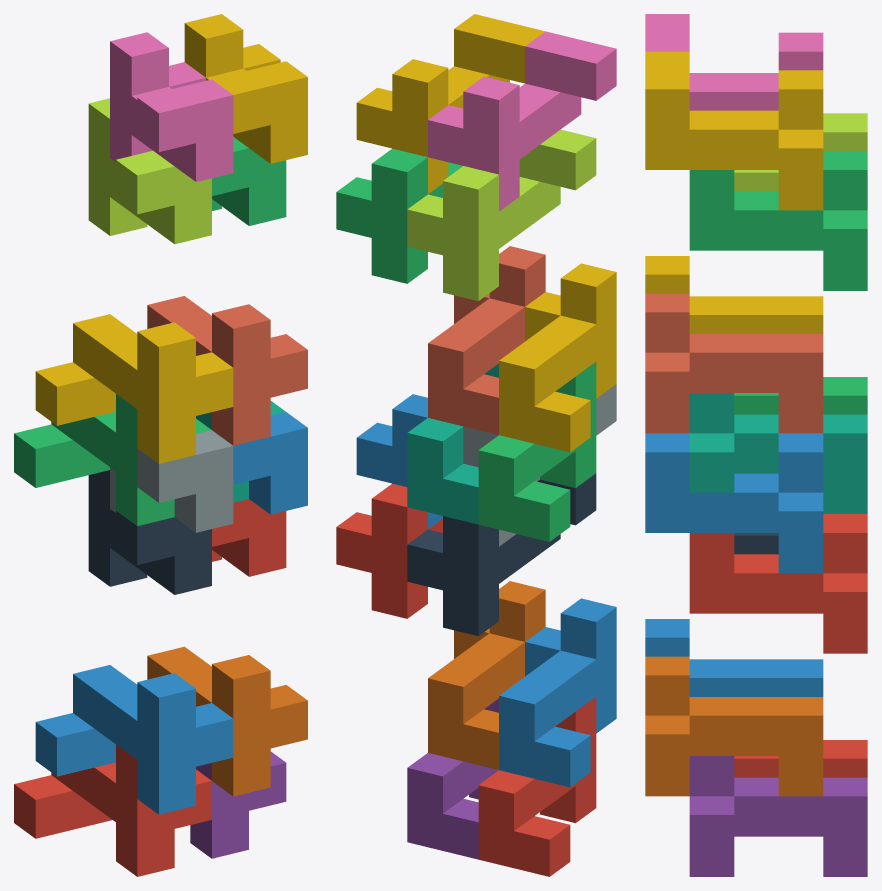
The model's file is tiling.obj.
3 views of the same model, side by side, from view 1: azimuth 30°, elevation 25°; view 2: azimuth 150°, elevation 25°; view 3: azimuth 270°, elevation 25° (orthographic). The views are drawn at different scales.
Parts seen in each view (by area): view 1: copy_1_domain_4, copy_1_domain_2, copy_2_domain_4, copy_1_domain_1, copy_1_domain_6, copy_1_domain_8, copy_2_domain_8, copy_2_domain_3, copy_1_domain_3, copy_2_domain_1, copy_2_domain_2, copy_2_domain_6 (+4 smaller); view 2: copy_1_domain_2, copy_1_domain_4, copy_2_domain_4, copy_2_domain_3, copy_1_domain_6, copy_1_domain_8, copy_2_domain_8, copy_2_domain_1, copy_1_domain_1, copy_1_domain_3, copy_2_domain_7, copy_2_domain_5 (+4 smaller); view 3: copy_2_domain_8, copy_1_domain_6, copy_1_domain_8, copy_2_domain_6, copy_1_domain_5, copy_2_domain_5, copy_2_domain_7, copy_1_domain_7, copy_2_domain_4, copy_1_domain_2, copy_1_domain_4, copy_1_domain_1 (+3 smaller).
Part boxes in pixels (x1,y1,x2,y2): copy_1_domain_4: [35, 314, 233, 463]; copy_1_domain_2: [35, 665, 233, 814]; copy_2_domain_4: [110, 32, 233, 181]; copy_1_domain_1: [14, 744, 211, 876]; copy_1_domain_6: [147, 646, 307, 796]; copy_1_domain_8: [147, 296, 307, 445]; copy_2_domain_8: [184, 14, 307, 163]; copy_2_domain_3: [88, 98, 211, 244]; copy_1_domain_3: [14, 394, 211, 525]; copy_2_domain_1: [88, 470, 211, 594]; copy_2_domain_2: [110, 430, 233, 532]; copy_2_domain_6: [233, 412, 307, 514]; copy_1_domain_2: [499, 598, 616, 787]; copy_1_domain_4: [499, 263, 616, 452]; copy_2_domain_4: [428, 31, 616, 211]; copy_2_domain_3: [407, 129, 596, 301]; copy_1_domain_6: [428, 581, 545, 769]; copy_1_domain_8: [428, 246, 545, 434]; copy_2_domain_8: [356, 14, 544, 193]; copy_2_domain_1: [407, 473, 596, 636]; copy_1_domain_1: [478, 697, 596, 876]; copy_1_domain_3: [478, 362, 596, 541]; copy_2_domain_7: [336, 148, 462, 283]; copy_2_domain_5: [336, 483, 442, 618]; copy_2_domain_8: [645, 51, 823, 210]; copy_1_domain_6: [645, 656, 823, 796]; copy_1_domain_8: [645, 293, 823, 433]; copy_2_domain_6: [645, 433, 823, 573]; copy_1_domain_5: [689, 756, 867, 876]; copy_2_domain_5: [689, 514, 867, 653]; copy_2_domain_7: [689, 151, 867, 290]; copy_1_domain_7: [689, 393, 867, 513]; copy_2_domain_4: [645, 14, 823, 110]; copy_1_domain_2: [645, 619, 823, 696]; copy_1_domain_4: [645, 256, 823, 333]; copy_1_domain_1: [734, 740, 867, 777].
Bounding box in the file's own units: 6 × 20 × 5.
